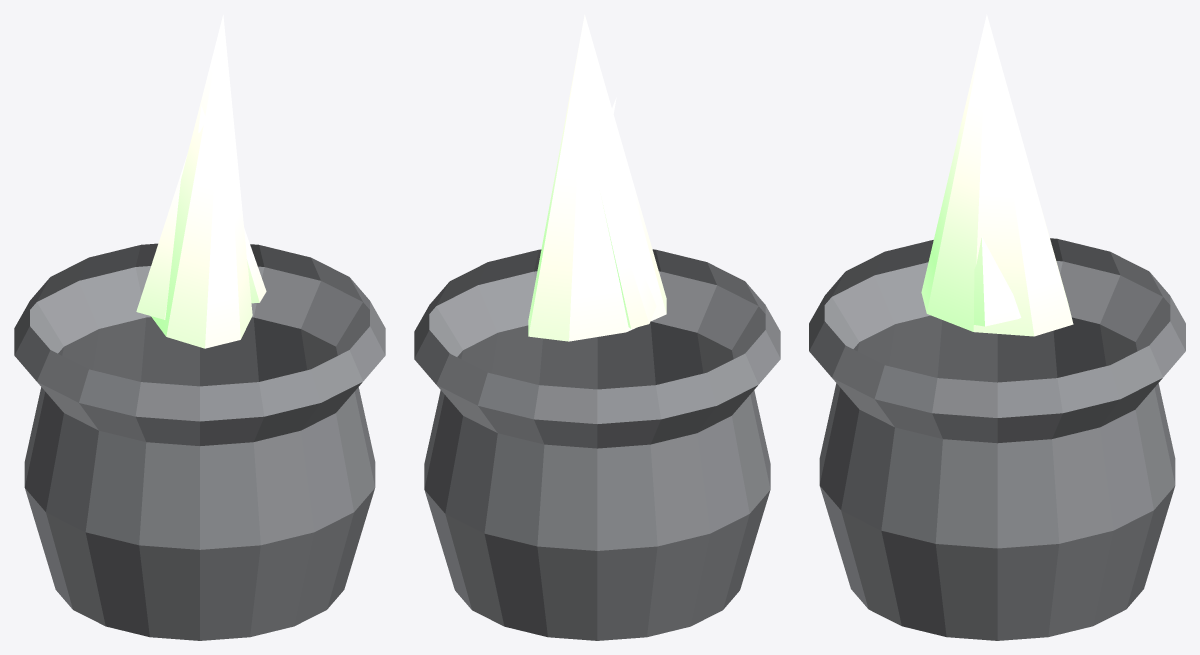
Rendered from ward_pot.glb.
3 views of the same model, side by side, from view 1: azimuth 30°, elevation 25°; view 2: azimuth 150°, elevation 25°; view 3: azimuth 270°, elevation 25° (orthographic). The views are drawn at different scales.
Visible parts, largest first — view 1: pot, flame; view 2: pot, flame; view 3: pot, flame.
Boxes of the visible parts, bbox=[...] form: pot: bbox=[14, 243, 385, 640]; flame: bbox=[136, 15, 266, 348]; pot: bbox=[414, 249, 780, 640]; flame: bbox=[528, 14, 666, 341]; pot: bbox=[809, 238, 1185, 640]; flame: bbox=[921, 14, 1073, 336].
Size of the model in its own units: 0.72 by 1.23 by 0.7091.
